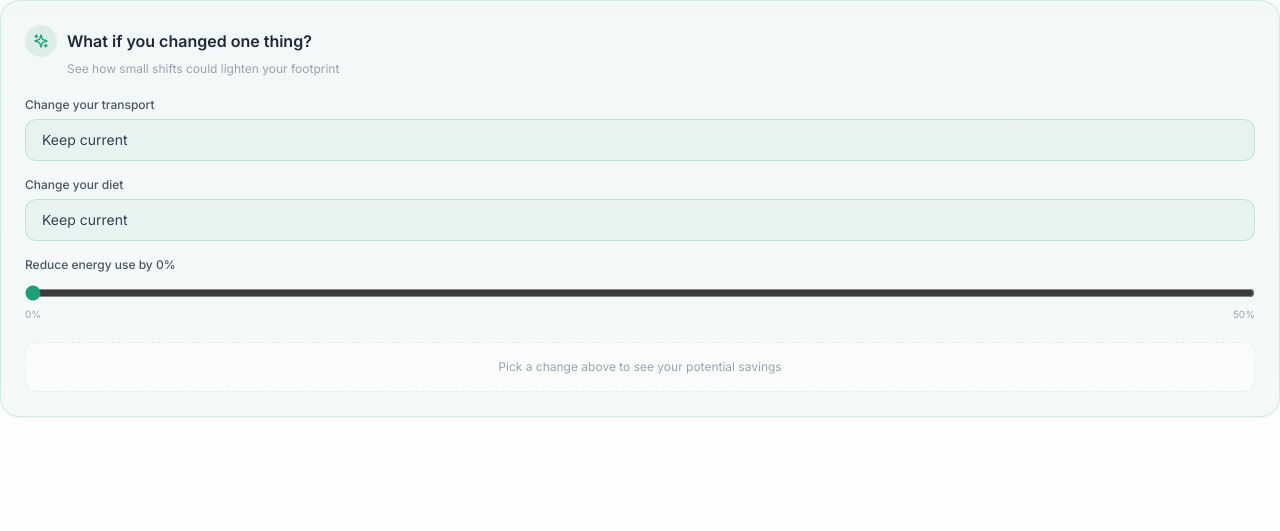
Test: WhatIfSimulator Component › calculates savings when switching to walk or cycle
The width and height of the screenshot is (1280, 531).
Step 1. Select "Walk / Cycle" in the dropdown labelled "Change your transport" → (640, 140), box [25,119,1255,161]
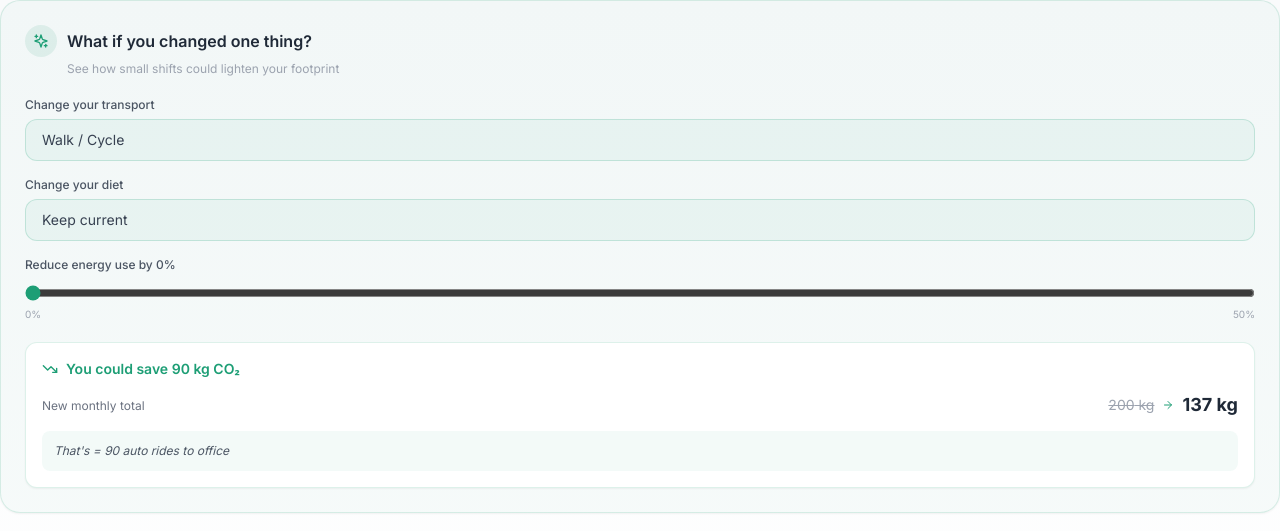
Check: the text "You could save 90 kg CO₂" is shown, box [66,359,240,379]
Check: the text "New monthly total" is shown, box [42,398,145,414]
